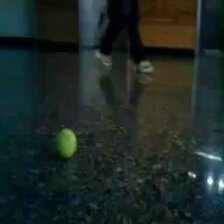tennis: (56, 128, 78, 159)
